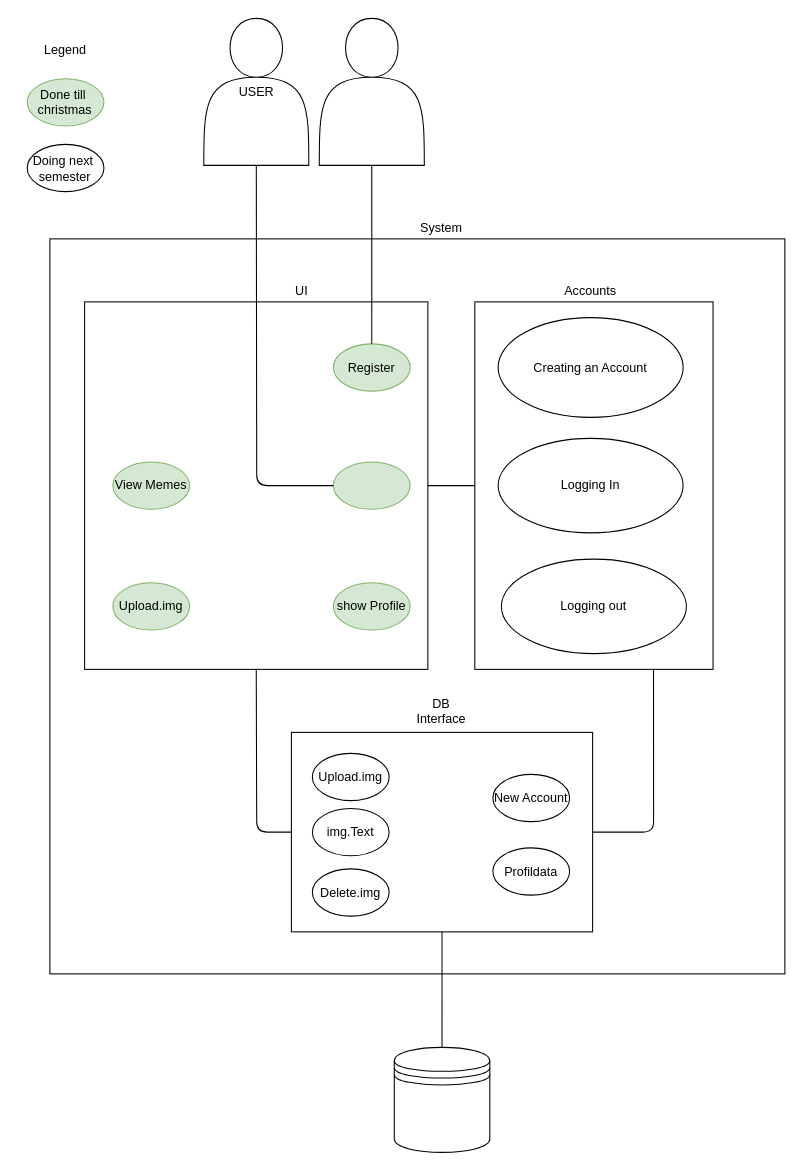
This 803x1171 diagram has some shape labels left out. The box of each missing label's shape, as (x1, y1, x2, y2) in pixels:
DB: (393, 1046, 490, 1152)
Guest: (318, 17, 424, 165)
LogIn: (332, 461, 410, 509)
